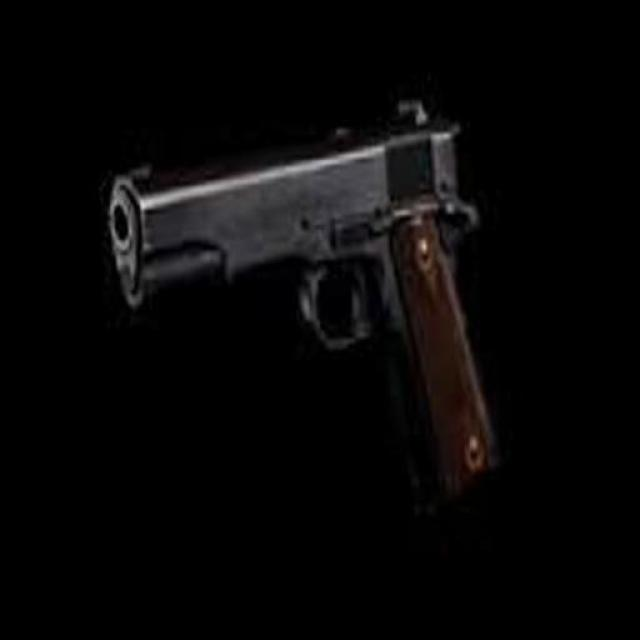gun: (100, 96, 499, 525)
